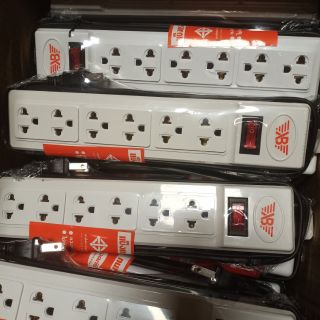Three_eye_plug: (4, 85, 314, 177), (25, 17, 320, 110), (1, 172, 302, 263), (1, 256, 302, 320)
